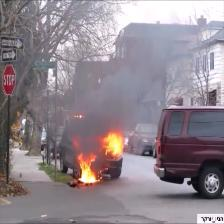fire: (76, 155, 96, 182), (104, 133, 122, 160)
smoke: (62, 68, 140, 133)
